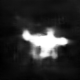plane: (20, 25, 71, 60)
